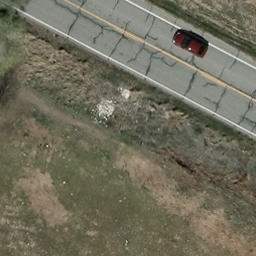car: (171, 29, 211, 59)
